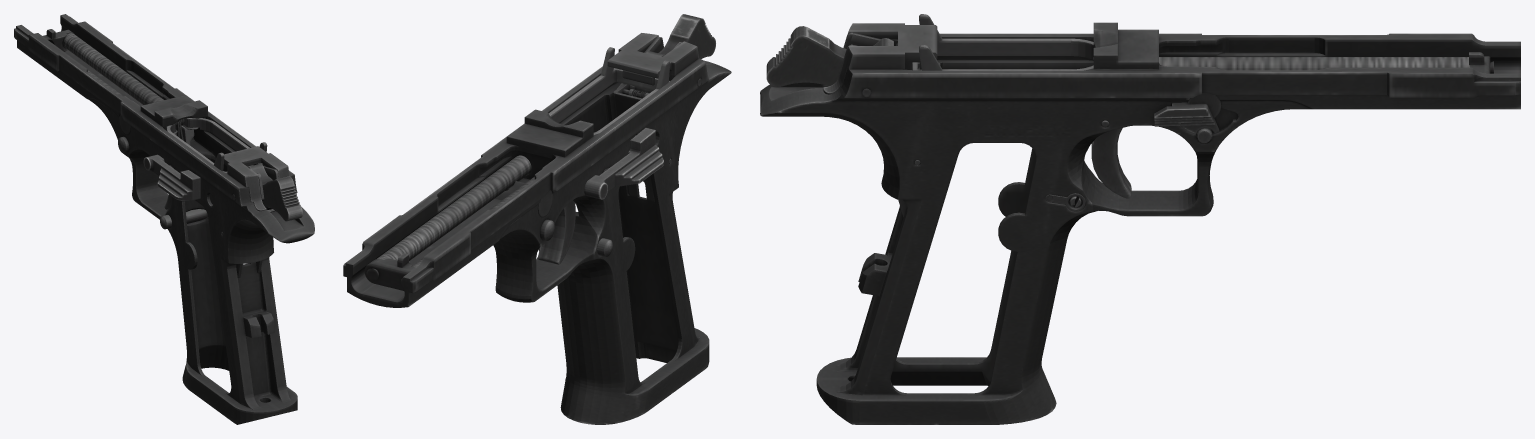
3 views of the same model, side by side, from view 1: azimuth 30°, elevation 25°; view 2: azimuth 150°, elevation 25°; view 3: azimuth 270°, elevation 25° (orthographic). The views are drawn at different scales.
Parts seen in each view (by area): view 1: TW_669fa409933e898cce0c2166_PZ_Import; view 2: TW_669fa409933e898cce0c2166_PZ_Import; view 3: TW_669fa409933e898cce0c2166_PZ_Import.
Part boxes in pixels (x1,y1,x2,y2): TW_669fa409933e898cce0c2166_PZ_Import: (14,14,314,424); TW_669fa409933e898cce0c2166_PZ_Import: (343,14,731,424); TW_669fa409933e898cce0c2166_PZ_Import: (760,14,1520,424).
Bounding box in the file's own units: 0.0214 × 0.1306 × 0.0706.
1 material, 1 textured.
